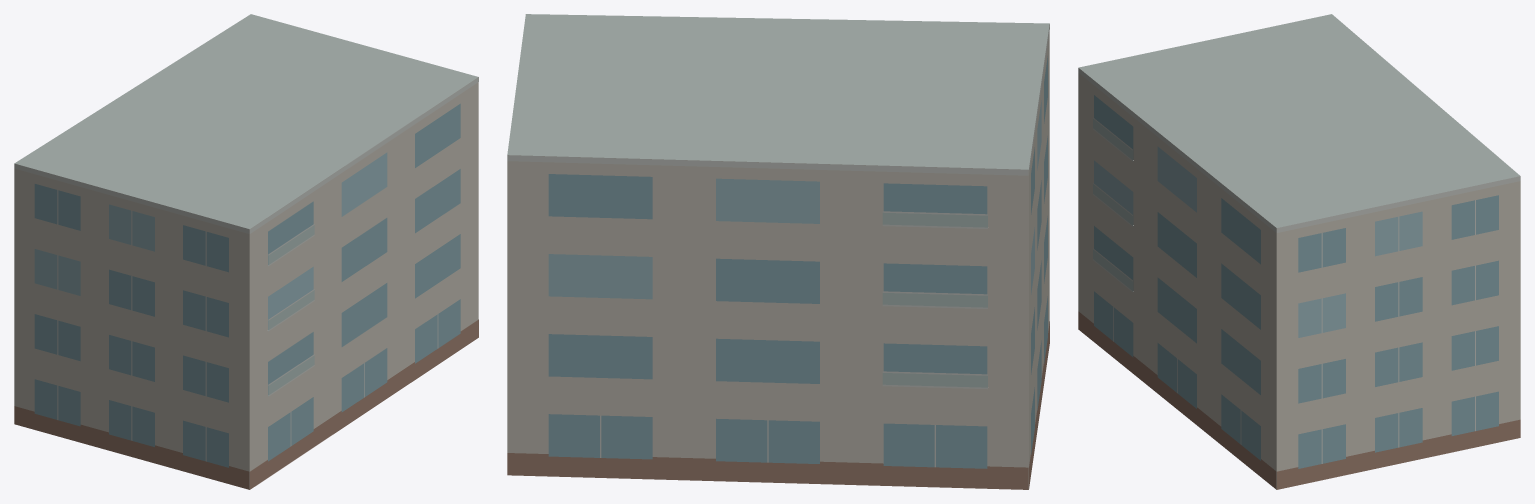
The model's file is survey-upis-32769407.glb.
The picture shows the model from 3 angles, left to right: view 1: azimuth 30°, elevation 25°; view 2: azimuth 150°, elevation 25°; view 3: azimuth 270°, elevation 25°; orthographic projection. The views are drawn at different scales.
Visible parts, largest first — view 1: survey-upis-32769407.tmp; view 2: survey-upis-32769407.tmp; view 3: survey-upis-32769407.tmp.
Boxes of the visible parts, box(x1,y1,x2,y2) form: survey-upis-32769407.tmp: box(14, 14, 478, 489); survey-upis-32769407.tmp: box(507, 14, 1049, 489); survey-upis-32769407.tmp: box(1078, 14, 1520, 489).
Size of the model in its own units: 22.47 by 12.8 by 19.61.
